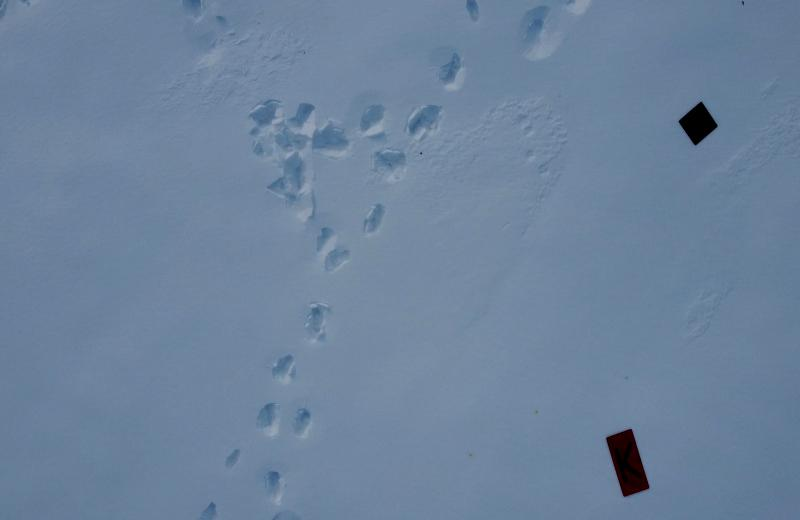Rectangle: (606, 430, 652, 500)
Square: (679, 100, 718, 148)
